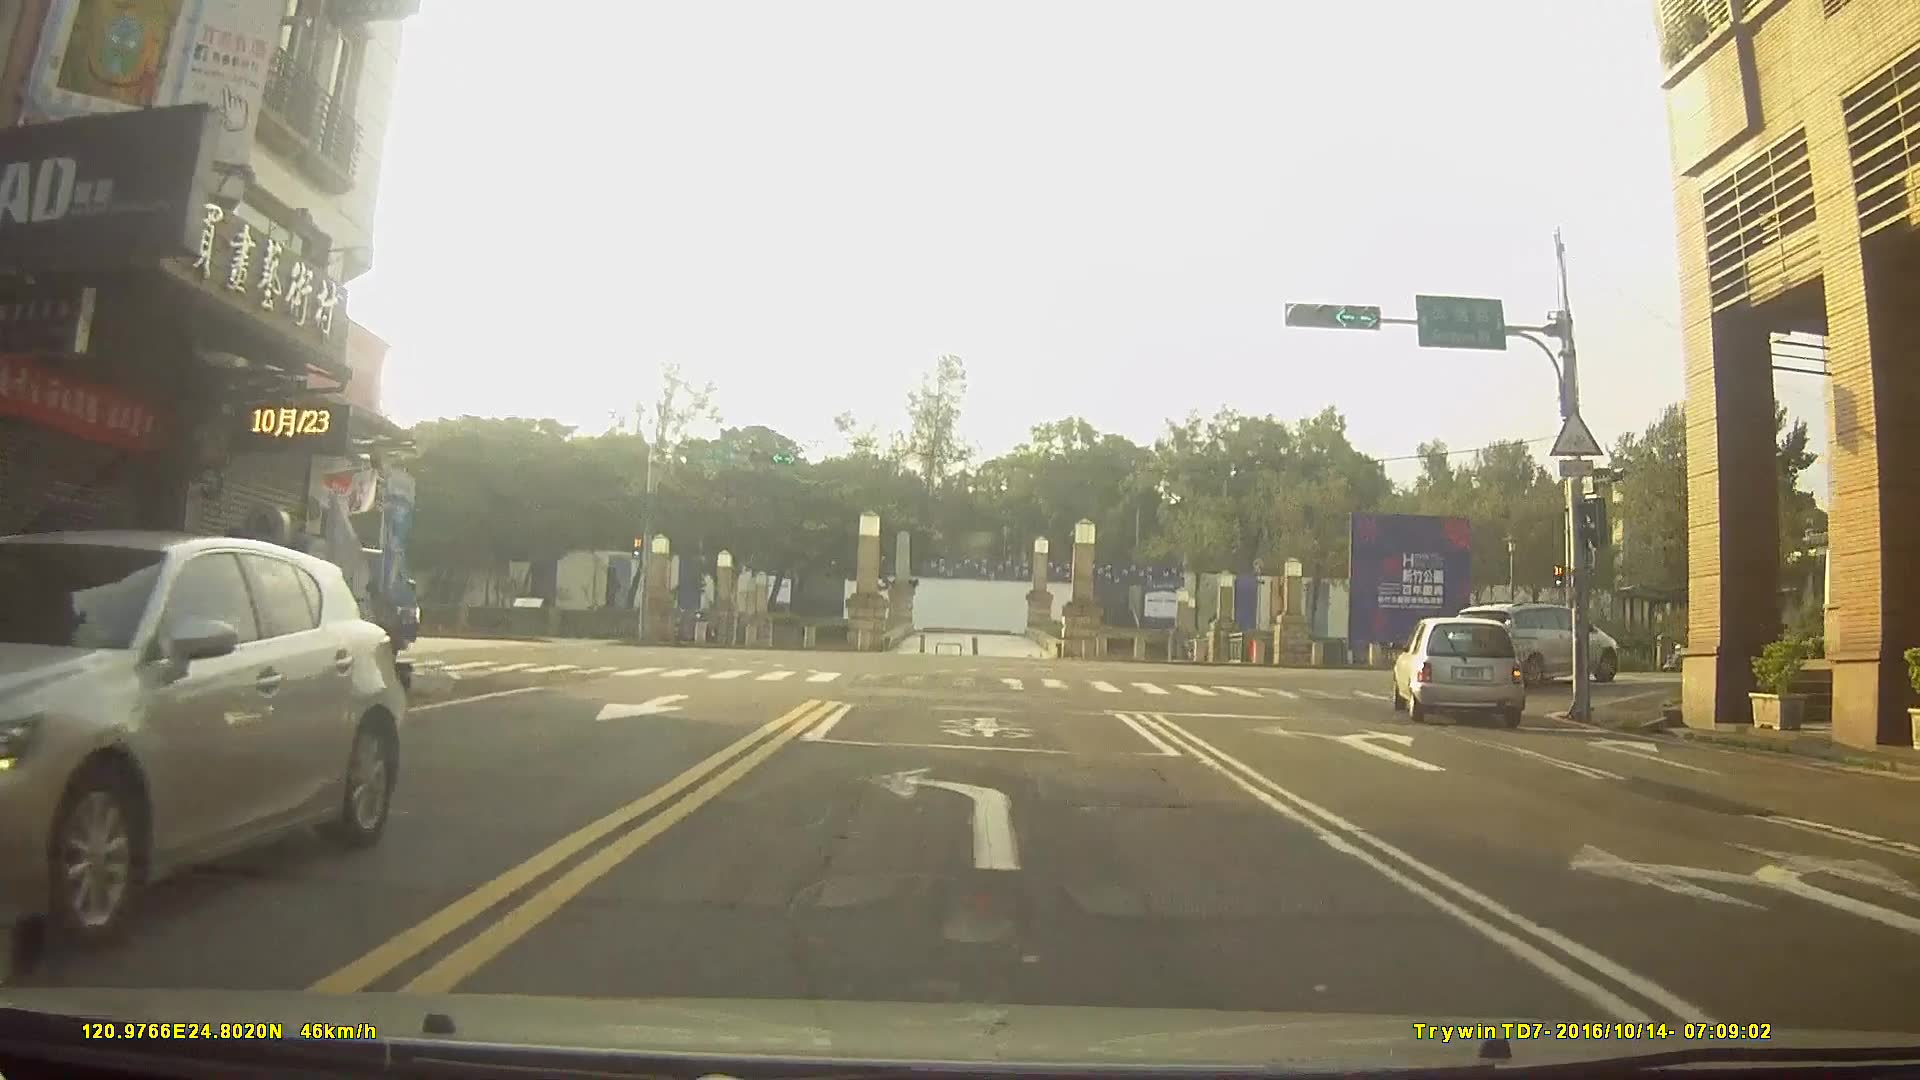vehicle: (0, 524, 405, 955), (1393, 611, 1527, 723), (1453, 597, 1621, 684)
